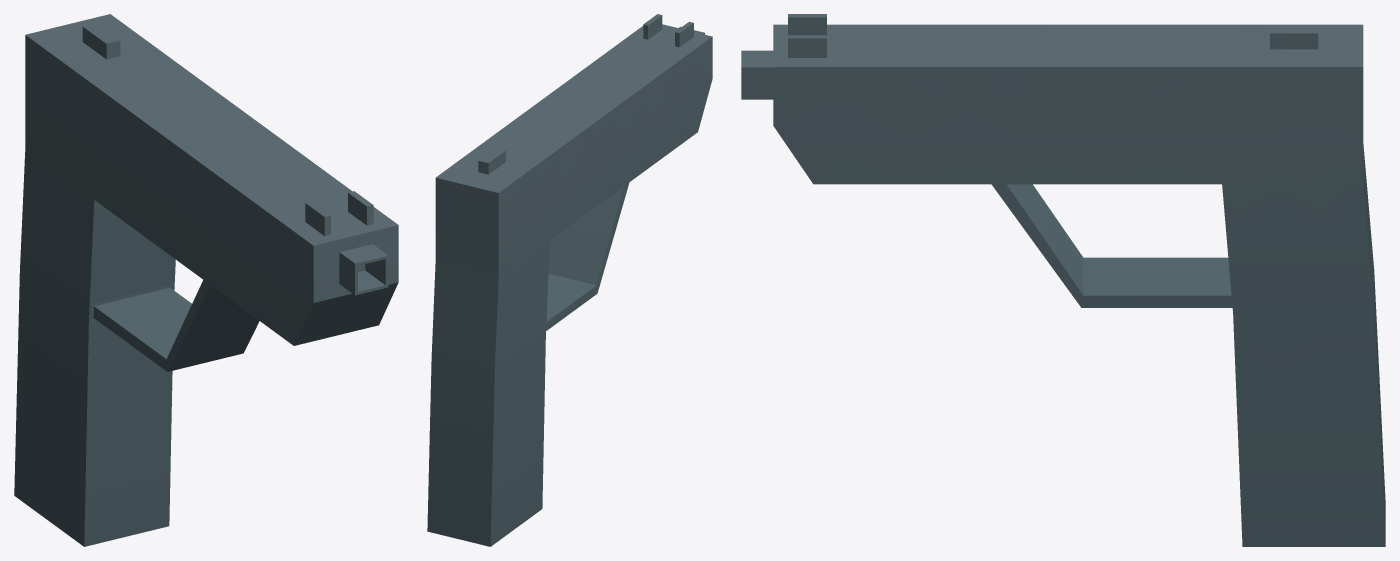
The model's file is Weapon.fbx.
3 renders of one model, left to right at view 1: azimuth 30°, elevation 25°; view 2: azimuth 150°, elevation 25°; view 3: azimuth 270°, elevation 25°, orthographic. The views are drawn at different scales.
Parts seen in each view (by area): view 1: Weapon; view 2: Weapon; view 3: Weapon.
Boxes of the visible parts, x1=… form: Weapon: x1=14, y1=14, x2=398, y2=546; Weapon: x1=427, y1=14, x2=712, y2=546; Weapon: x1=741, y1=14, x2=1385, y2=546.
Size of the model in its own units: 0.8339 by 4.57 by 5.35.
1 material, 1 textured.
